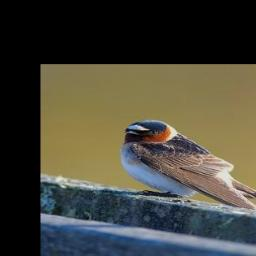Swallow: (118, 119, 256, 215)
